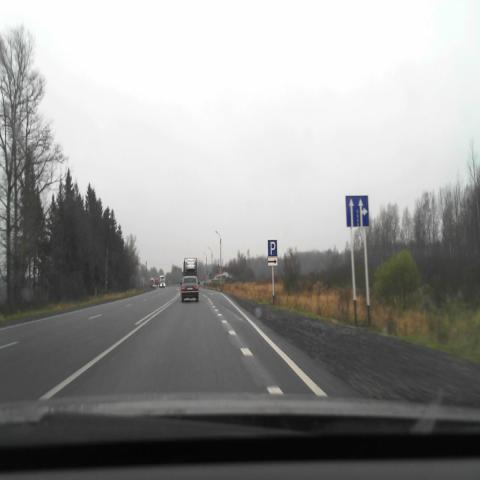5_15_2_2: (345, 195, 369, 227)
